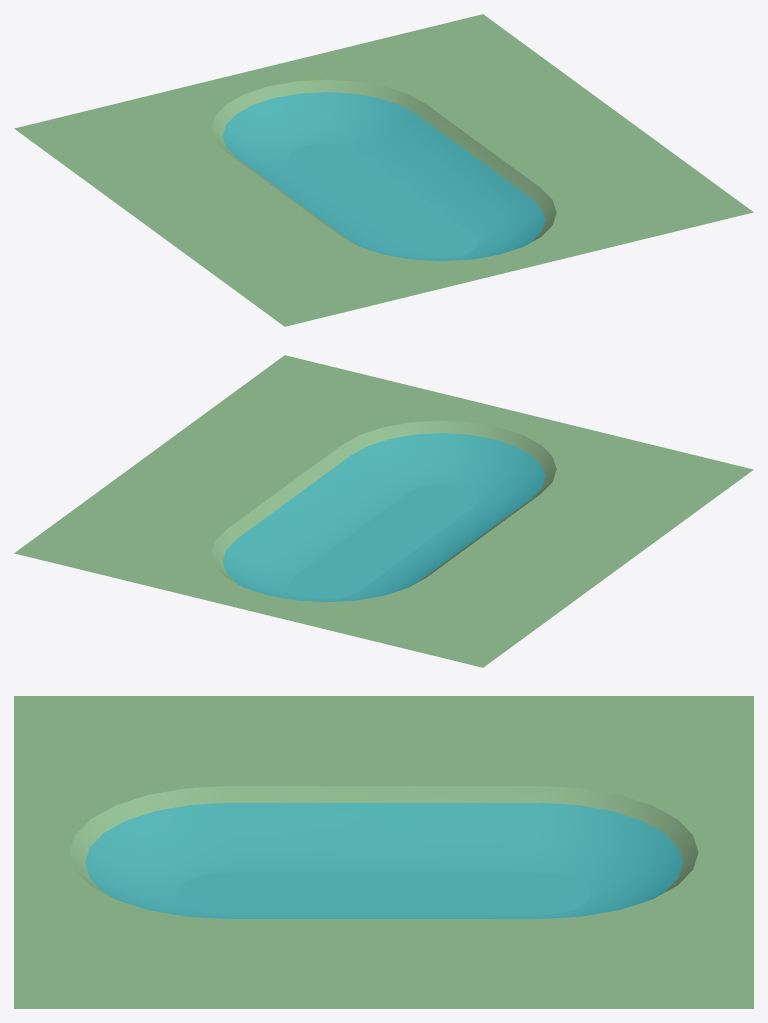
Rendered from 55_stormwater.dae.
3 views of the same model, one above another, from view 1: azimuth 30°, elevation 25°; view 2: azimuth 150°, elevation 25°; view 3: azimuth 270°, elevation 25° (orthographic). The views are drawn at different scales.
Parts seen in each view (by area): view 1: SketchUp (×3); view 2: SketchUp (×3); view 3: SketchUp (×3).
Part boxes in pixels (bbox=[...]): SketchUp (×3): bbox=[14, 14, 753, 326]; SketchUp (×3): bbox=[14, 355, 753, 667]; SketchUp (×3): bbox=[14, 696, 753, 1008].
Bounding box in the file's own units: 130 × 130 × 8.
